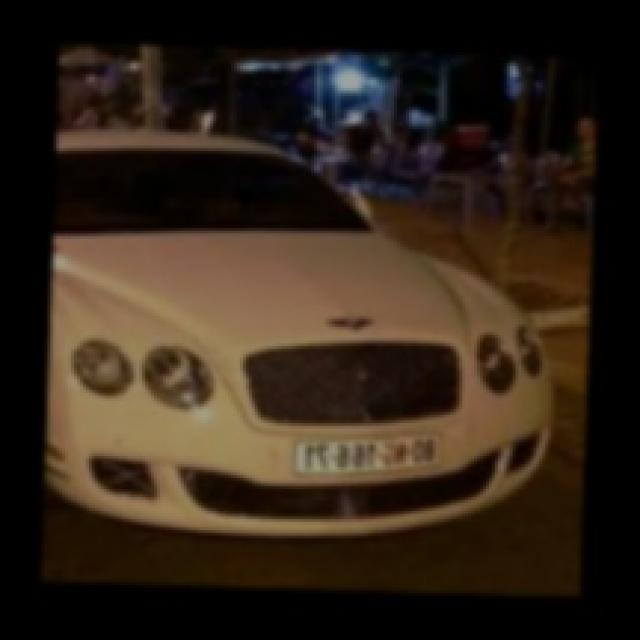bien_ngoai_giao: (288, 433, 444, 472)
